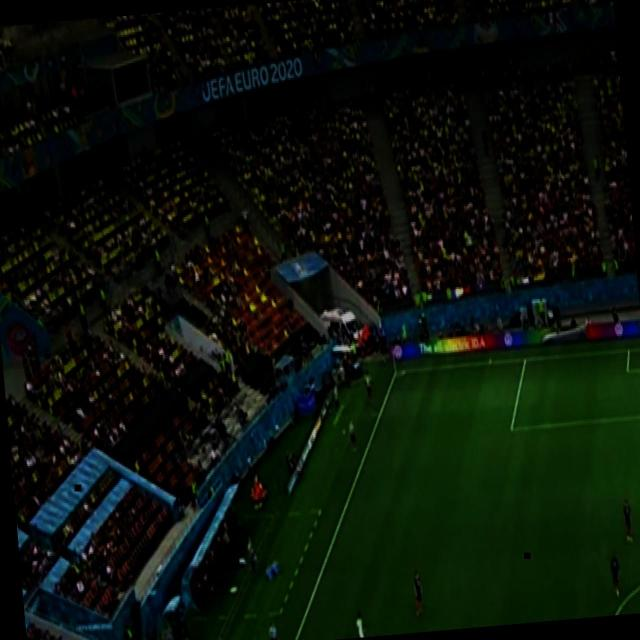ball: (342, 426, 346, 434)
player-white: (608, 549, 624, 601), (410, 568, 426, 620), (620, 496, 635, 544), (352, 608, 371, 638), (266, 616, 278, 640)
